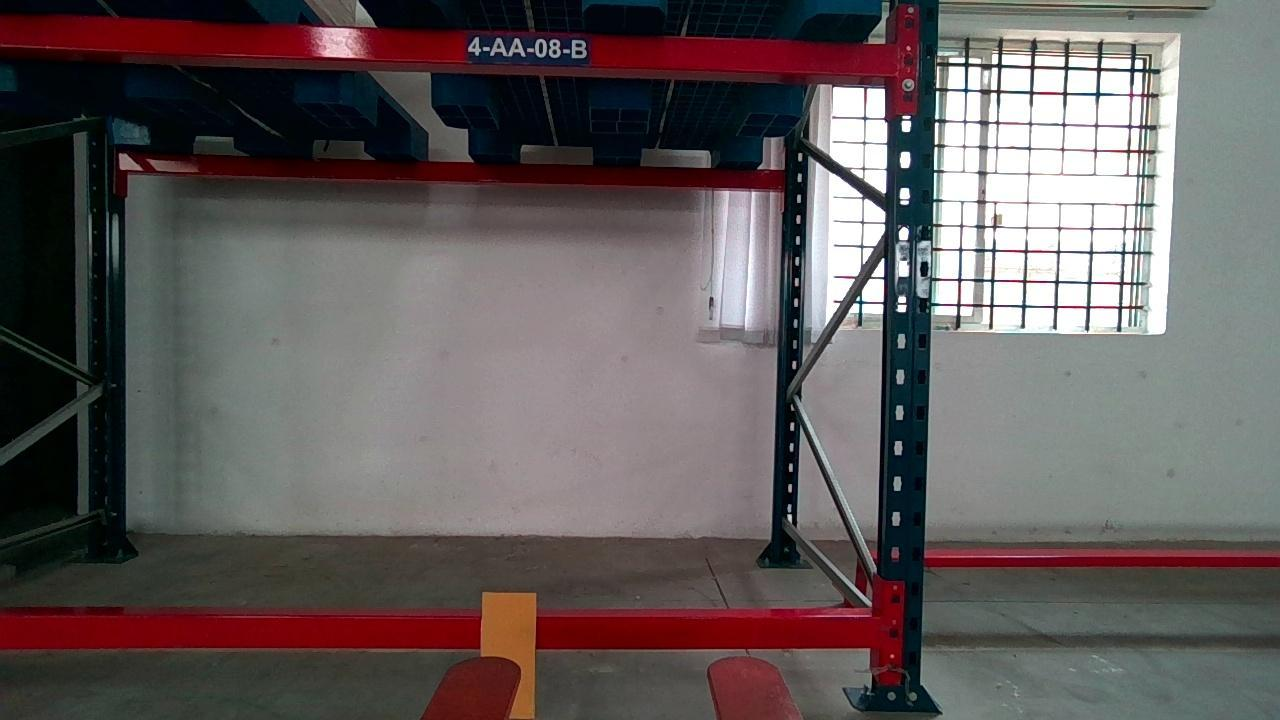h_rack: (0, 13, 893, 76), (0, 611, 881, 645)
orange_strip: (479, 594, 536, 720)
